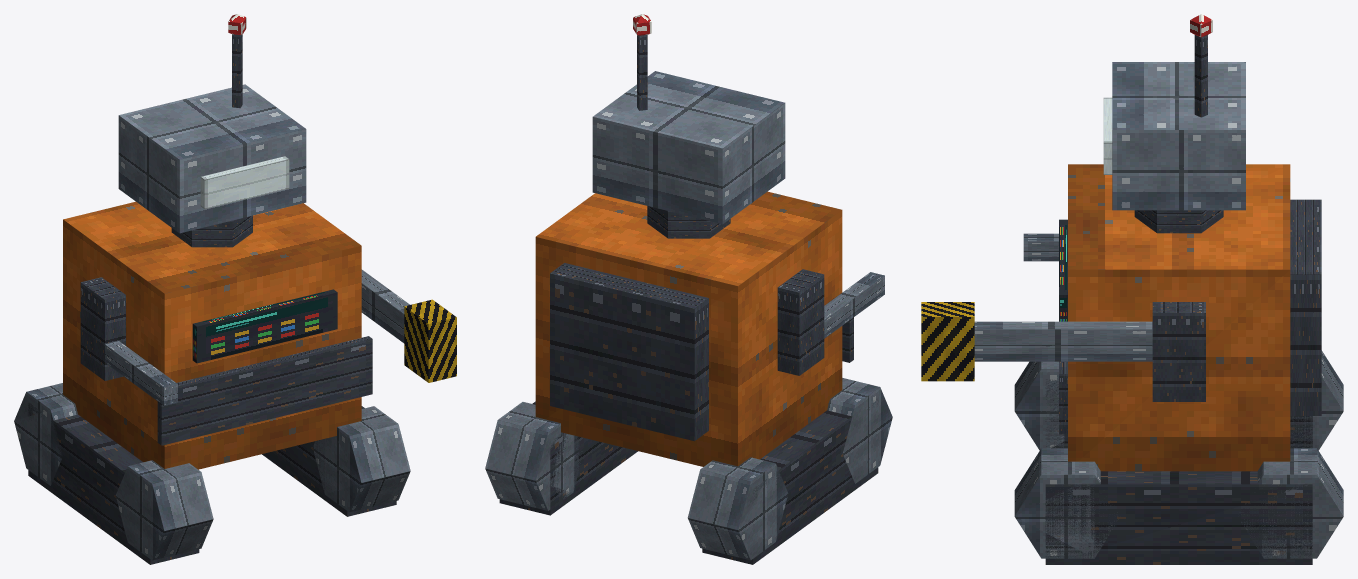
The model's file is maintenance_robot.glb.
3 renders of one model, left to right at view 1: azimuth 30°, elevation 25°; view 2: azimuth 150°, elevation 25°; view 3: azimuth 270°, elevation 25°, orthographic. The views are drawn at different scales.
Parts seen in each view (by area): view 1: maintenance_robot; view 2: maintenance_robot; view 3: maintenance_robot.
Boxes of the visible parts, bbox=[...] form: maintenance_robot: bbox=[14, 14, 456, 564]; maintenance_robot: bbox=[485, 14, 892, 564]; maintenance_robot: bbox=[921, 14, 1343, 564].
Bounding box in the file's own units: 0.71 × 1.25 × 0.95.
Materials: 1 (1 with a texture image).
